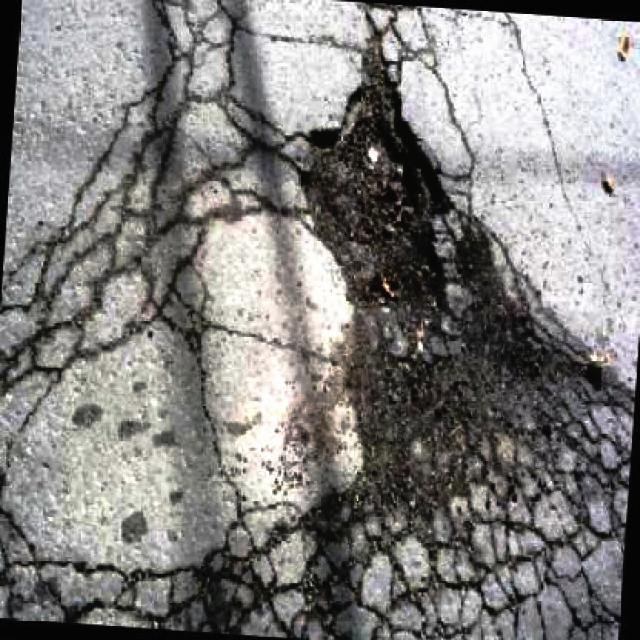pothole: (295, 26, 594, 531)
